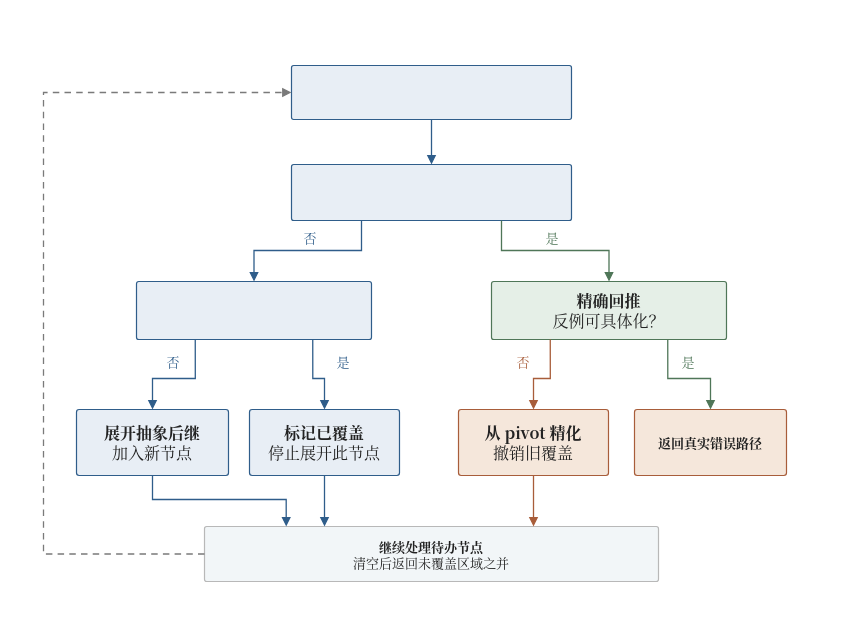
Image size: 862x624. Some labels were removed from this diagram. The centre of each missing label's shape, as x and y in pixels:
R_n ∩ E ≠ ∅？: (431,192)
R_n ⊆ U？: (253,310)
取出一个未处理节点: (431,92)
